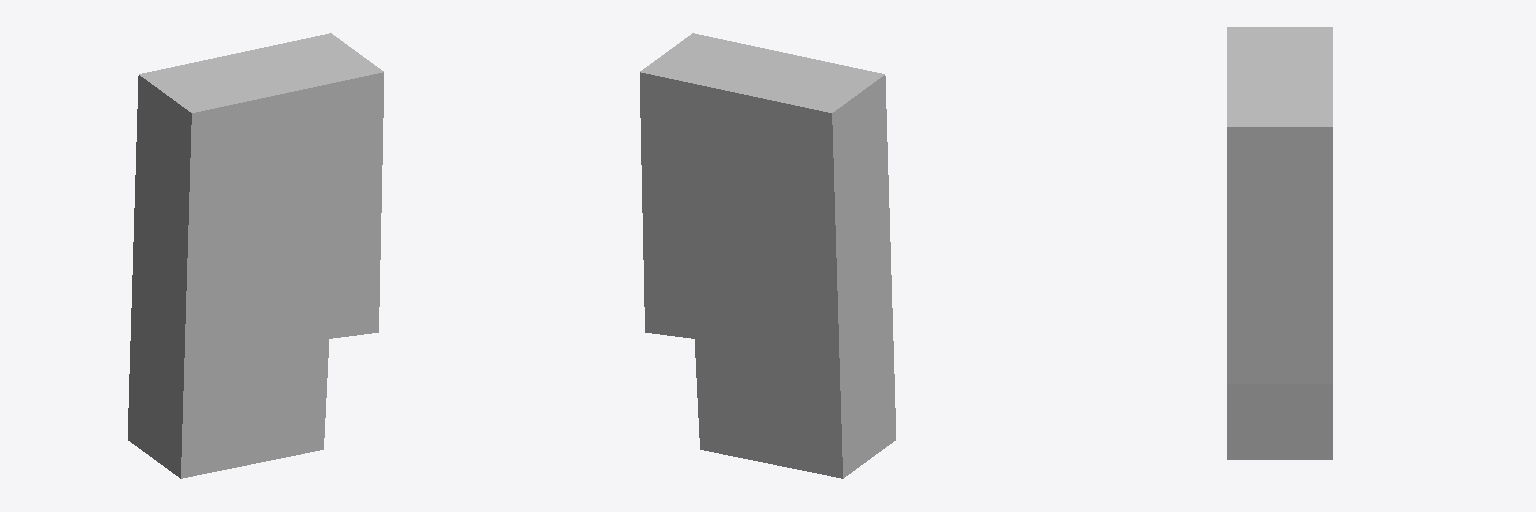
The model's file is Grangegorman_TUDublin_Geothermal v2.obj.
3 views of the same model, side by side, from view 1: azimuth 30°, elevation 25°; view 2: azimuth 150°, elevation 25°; view 3: azimuth 270°, elevation 25° (orthographic).
Visible parts, largest first — view 1: 38; view 2: 38; view 3: 38.
Part boxes in pixels (x1,y1,x2,y2): 38: (128,33,383,478); 38: (640,33,895,478); 38: (1227,27,1332,459).
Bounding box in the file's own units: 1.59 × 2.76 × 0.7233.